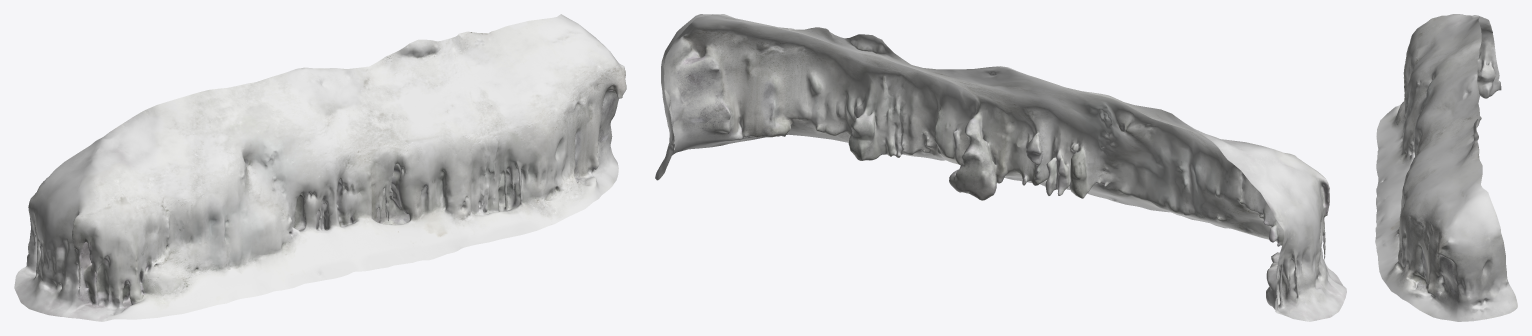
File: Snow2.fbx
3 views of the same model, side by side, from view 1: azimuth 30°, elevation 25°; view 2: azimuth 150°, elevation 25°; view 3: azimuth 270°, elevation 25° (orthographic). The views are drawn at different scales.
Parts seen in each view (by area): view 1: Aset_nature_snow_L_vd5leh0ga_LOD0; view 2: Aset_nature_snow_L_vd5leh0ga_LOD0; view 3: Aset_nature_snow_L_vd5leh0ga_LOD0.
Part boxes in pixels (left/top/right/bottom): Aset_nature_snow_L_vd5leh0ga_LOD0: left=14, top=14, right=626, bottom=321; Aset_nature_snow_L_vd5leh0ga_LOD0: left=655, top=14, right=1346, bottom=321; Aset_nature_snow_L_vd5leh0ga_LOD0: left=1375, top=14, right=1517, bottom=321.
Bounding box in the file's own units: 796 × 208 × 207.
1 material, 1 textured.
